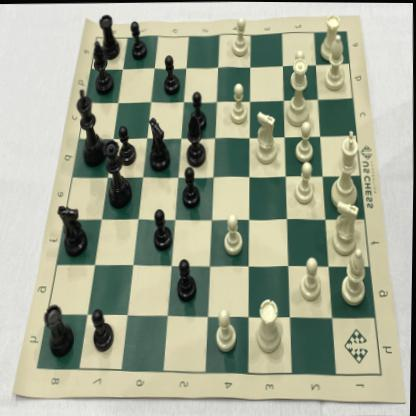black-bishop: (92, 40, 114, 95), (184, 110, 205, 165)
black-knight: (75, 86, 106, 166), (56, 201, 88, 260), (146, 117, 173, 174)
black-pawn: (91, 306, 115, 353), (175, 256, 199, 303), (152, 206, 174, 252), (181, 166, 203, 210), (161, 53, 181, 97), (188, 88, 208, 132), (118, 123, 138, 166), (129, 19, 148, 61)
black-queen: (106, 139, 129, 208)
black-rook: (42, 300, 75, 359), (97, 11, 120, 61)
white-bishop: (339, 246, 369, 306), (322, 32, 347, 92)
white-king: (330, 128, 362, 211)
white-knight: (253, 109, 279, 165)
white-pawn: (214, 307, 238, 353), (293, 159, 316, 205), (223, 207, 244, 256), (294, 120, 315, 163), (300, 257, 320, 300), (229, 81, 248, 124), (230, 16, 249, 57), (289, 47, 308, 88)
white-queen: (283, 57, 314, 127)
white-rook: (254, 297, 283, 354), (319, 13, 340, 62)
